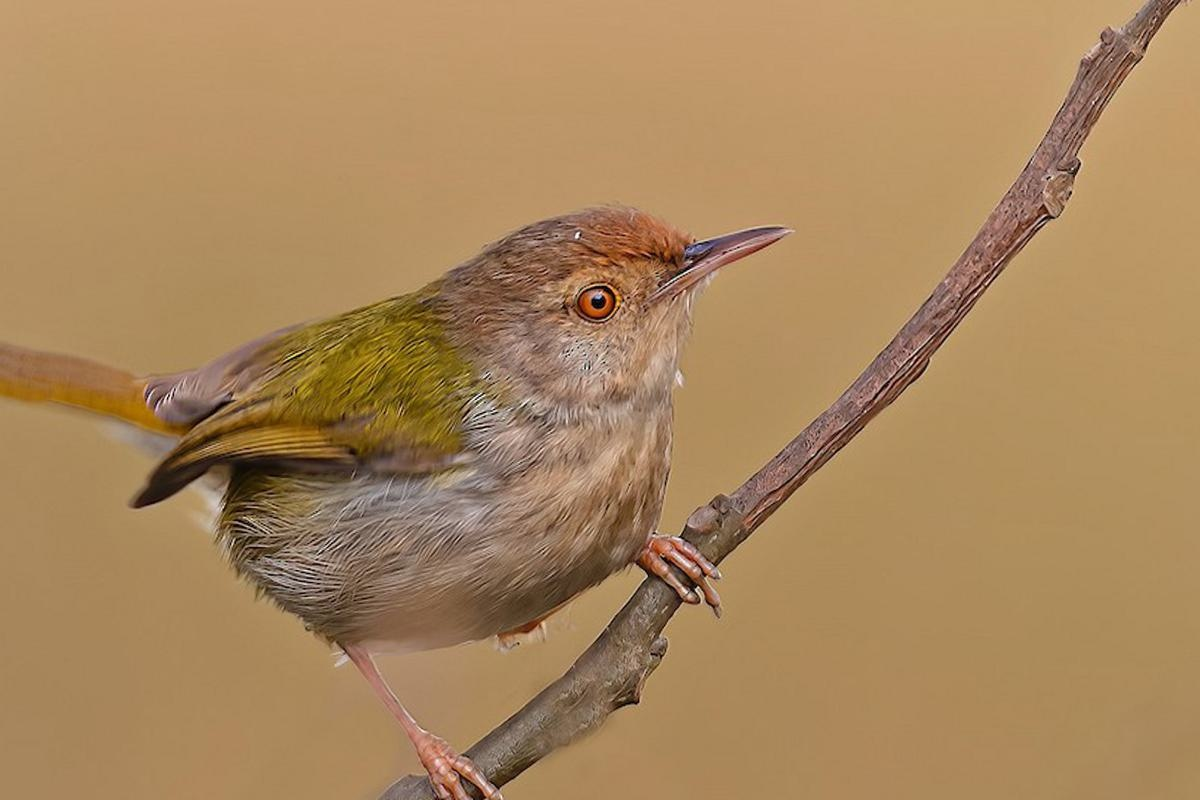tailorbird: (1, 156, 848, 727)
